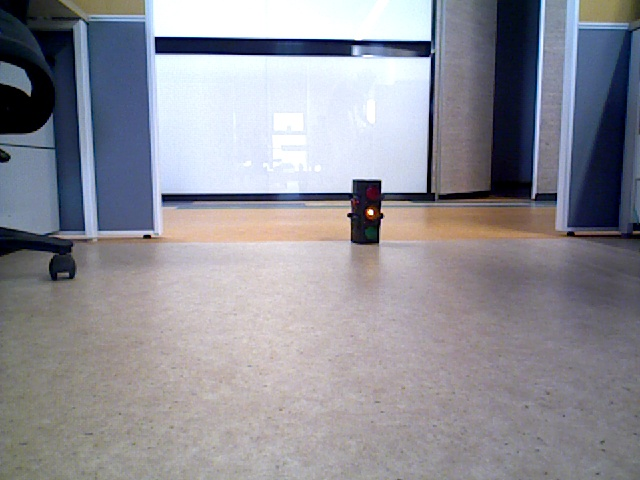yellow: (351, 180, 377, 240)
